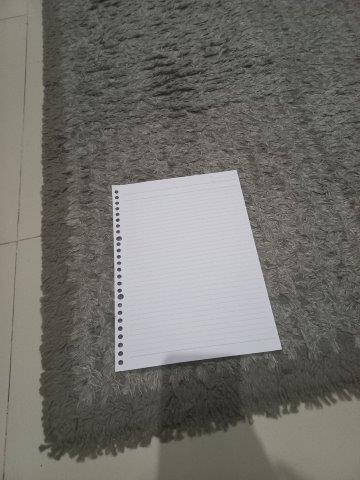kertas: (112, 171, 283, 365)
